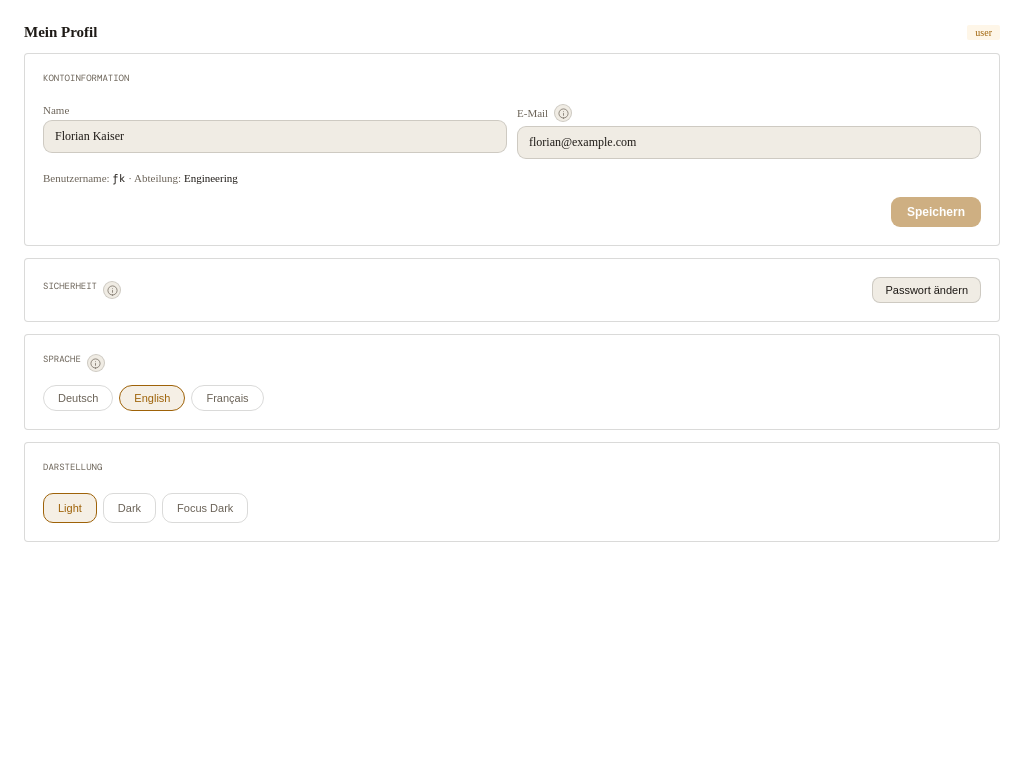
Test case: ProfilV5 › associates each Field label with its input via htmlFor + matching id (WCAG 2.1 AA)
expect the field showing "Florian Kaiser" is shown: met, box [43,120,507,153]
Open password panel so all 5 form inputs are present
Click the button with test id "profil-pw-toggle" at point(927, 290), box [872,277,981,303]
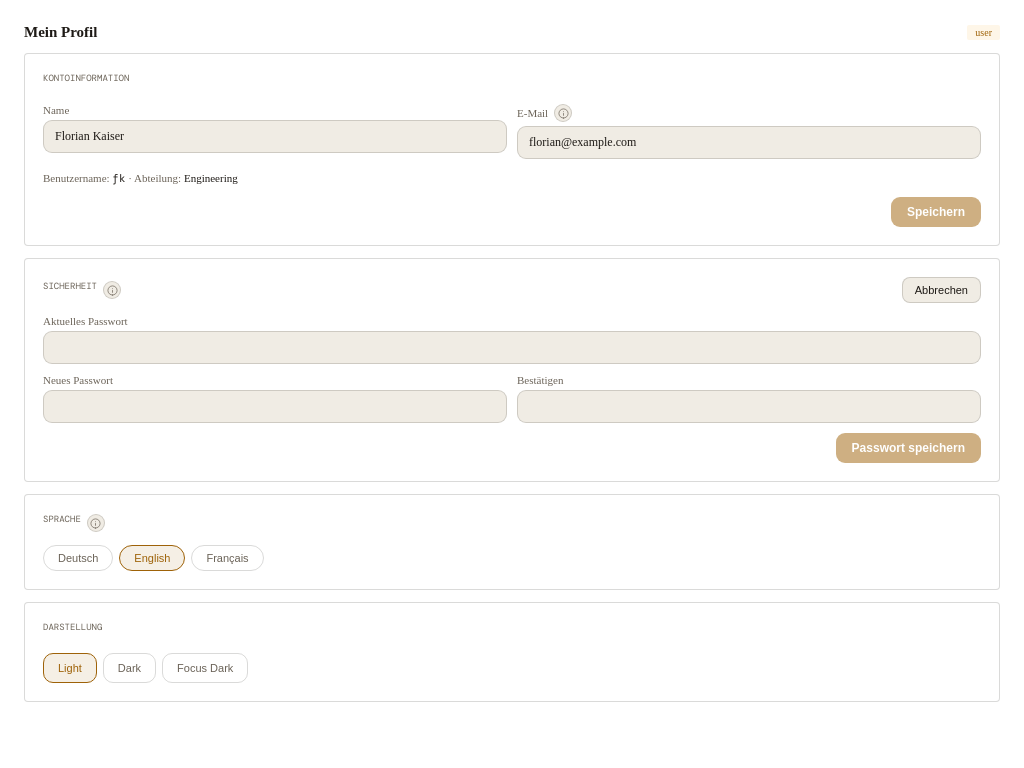
expect the number of password fields is 3: met, box [43,331,981,364]; [43,390,507,423]; [517,390,981,423]
expect the password field labelled "Aktuelles Passwort" is shown: met, box [43,331,981,364]
expect the label "Aktuelles Passwort" is shown: met, box [43,315,128,327]
